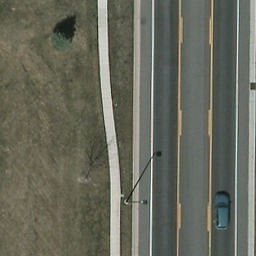car: (214, 192, 230, 230)
